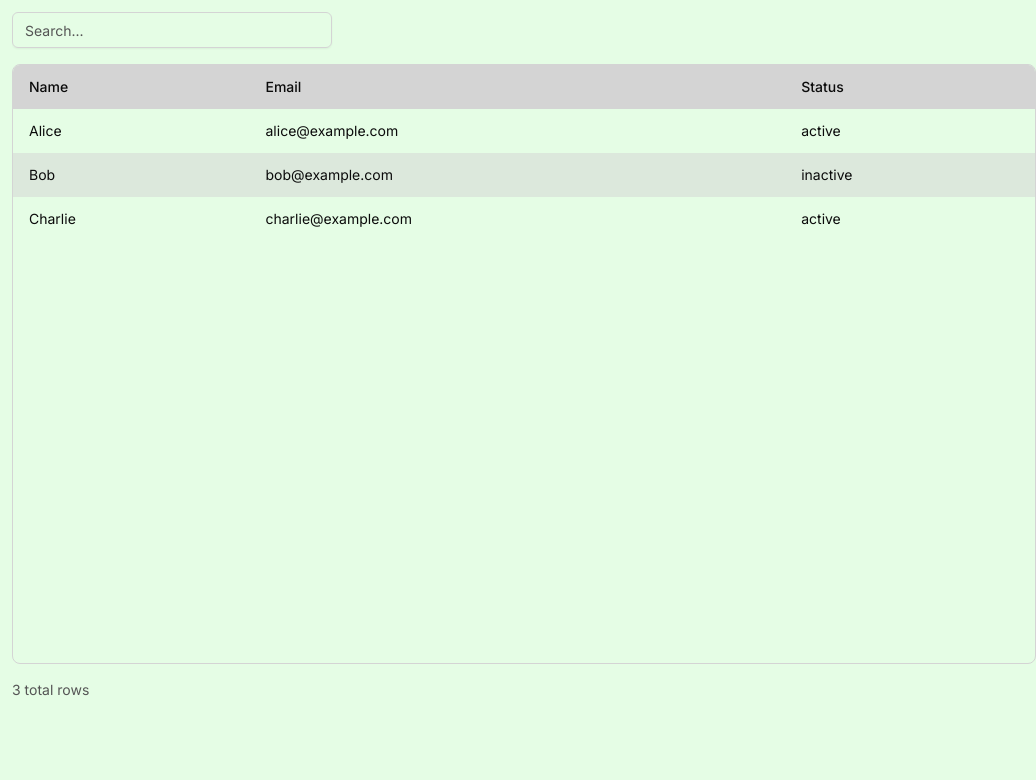
Test: VirtualDataTable › filtering › should reset row count when filter cleared
This screenshot has width=1036, height=780.
In the field with placeholder "Search...": (172, 30) x1=12 y1=12 x2=332 y2=48, type "Alice"
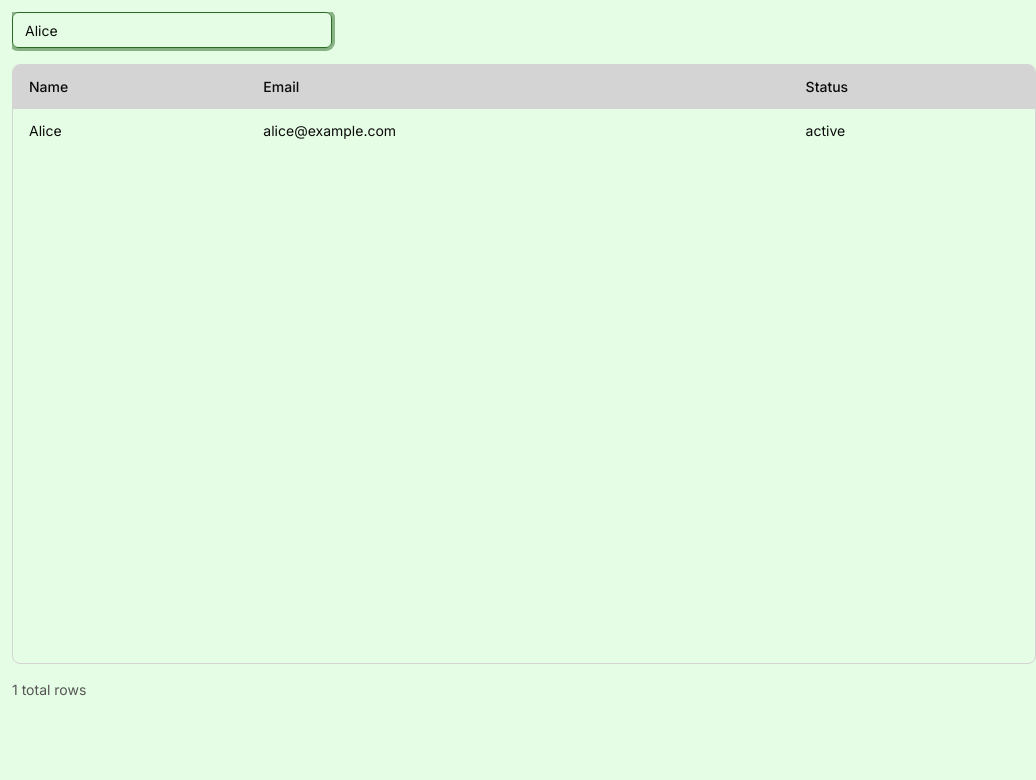
Clear the field with placeholder "Search...": (172, 30) x1=12 y1=12 x2=332 y2=48
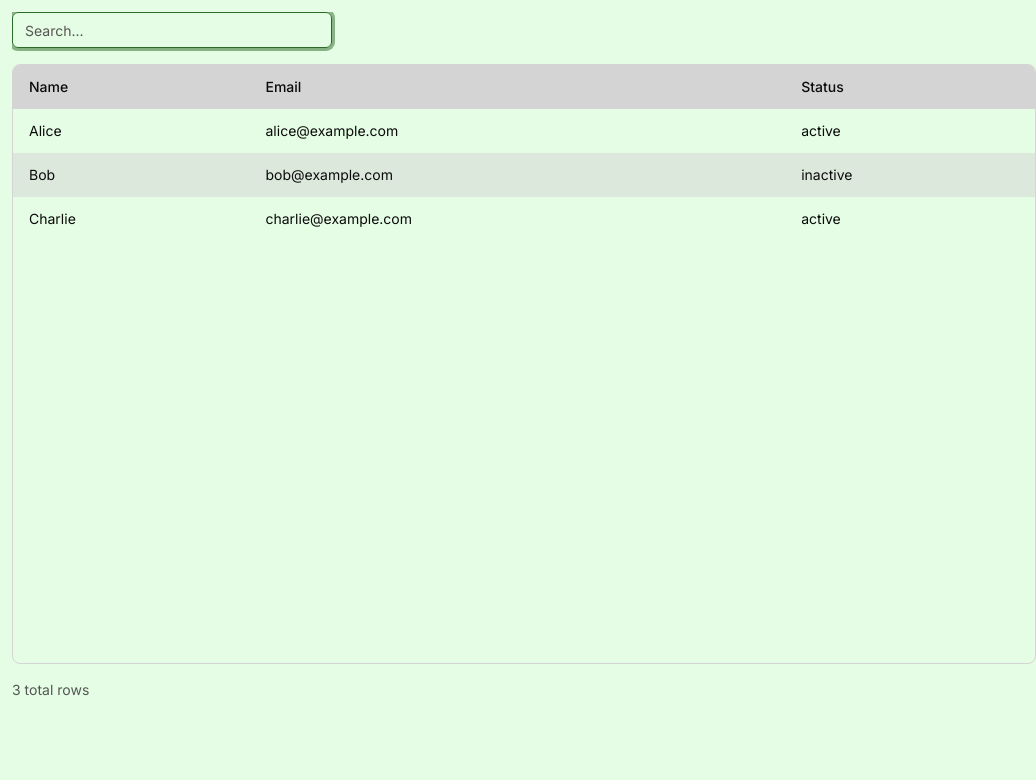
Now the text "3 total rows" is shown, box x1=12 y1=681 x2=89 y2=698
